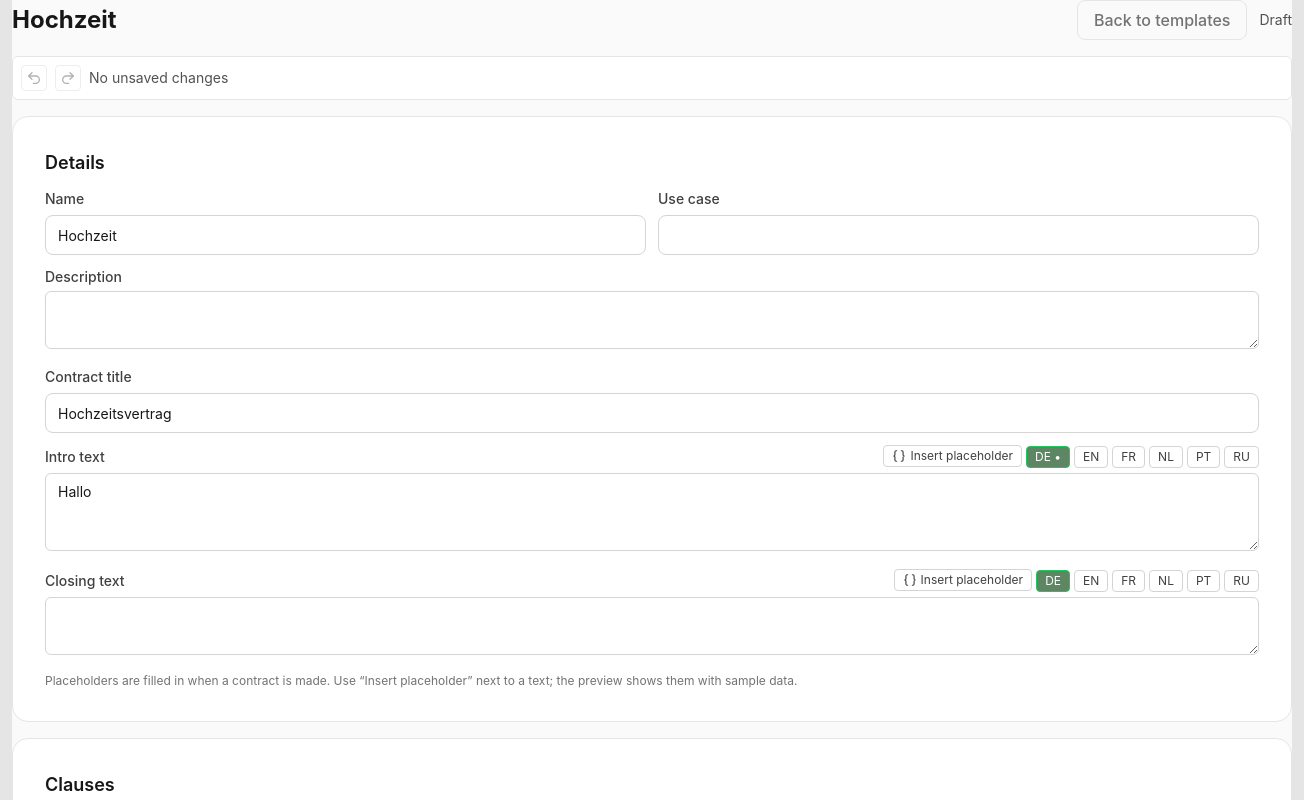
Test: a conflict keeps the local text, pauses autosave, and "Keep mine" saves it over the new version
Replace the text in the field labelled "Contract title" with "Mein Titel" at (652, 413), box [45,393,1259,433]
(page scrolled)
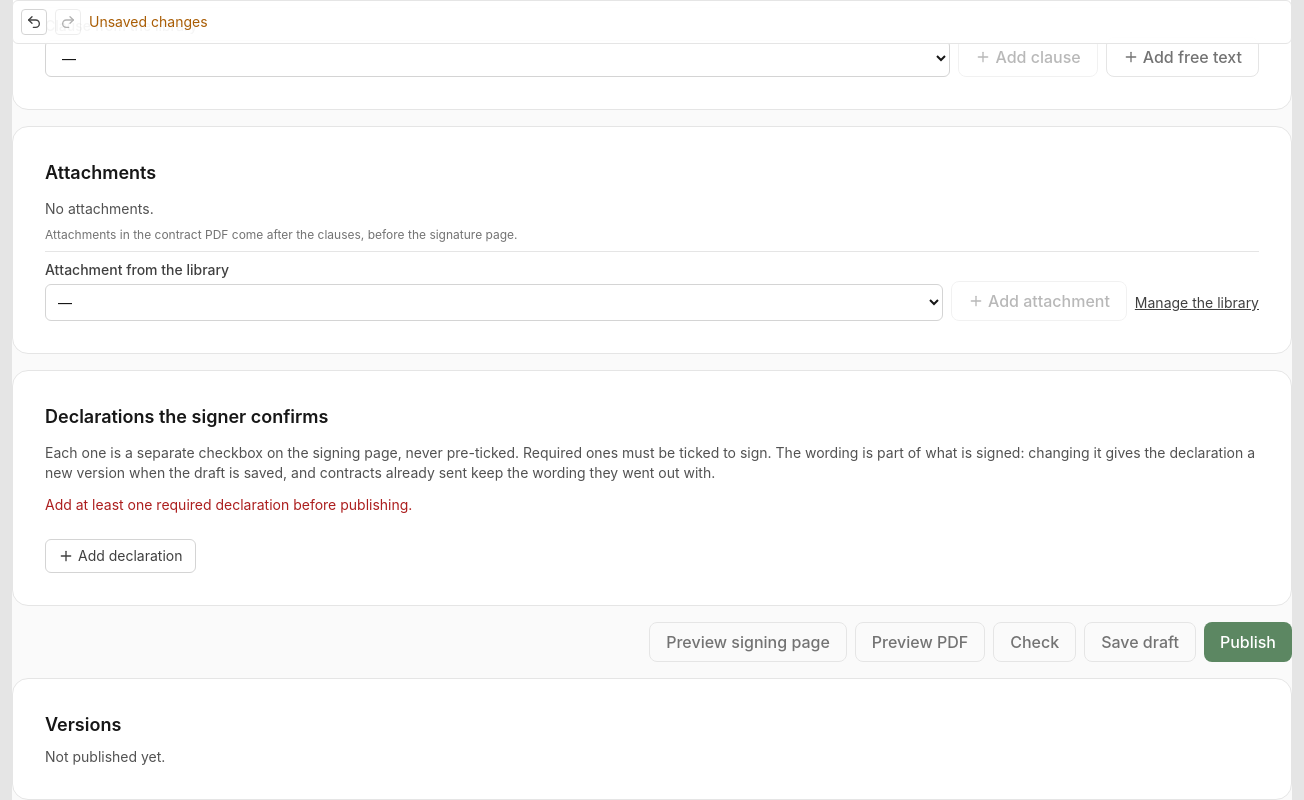
Click the button "Save draft".
click(1140, 642)  # box [1084,622,1196,662]
(page scrolled)
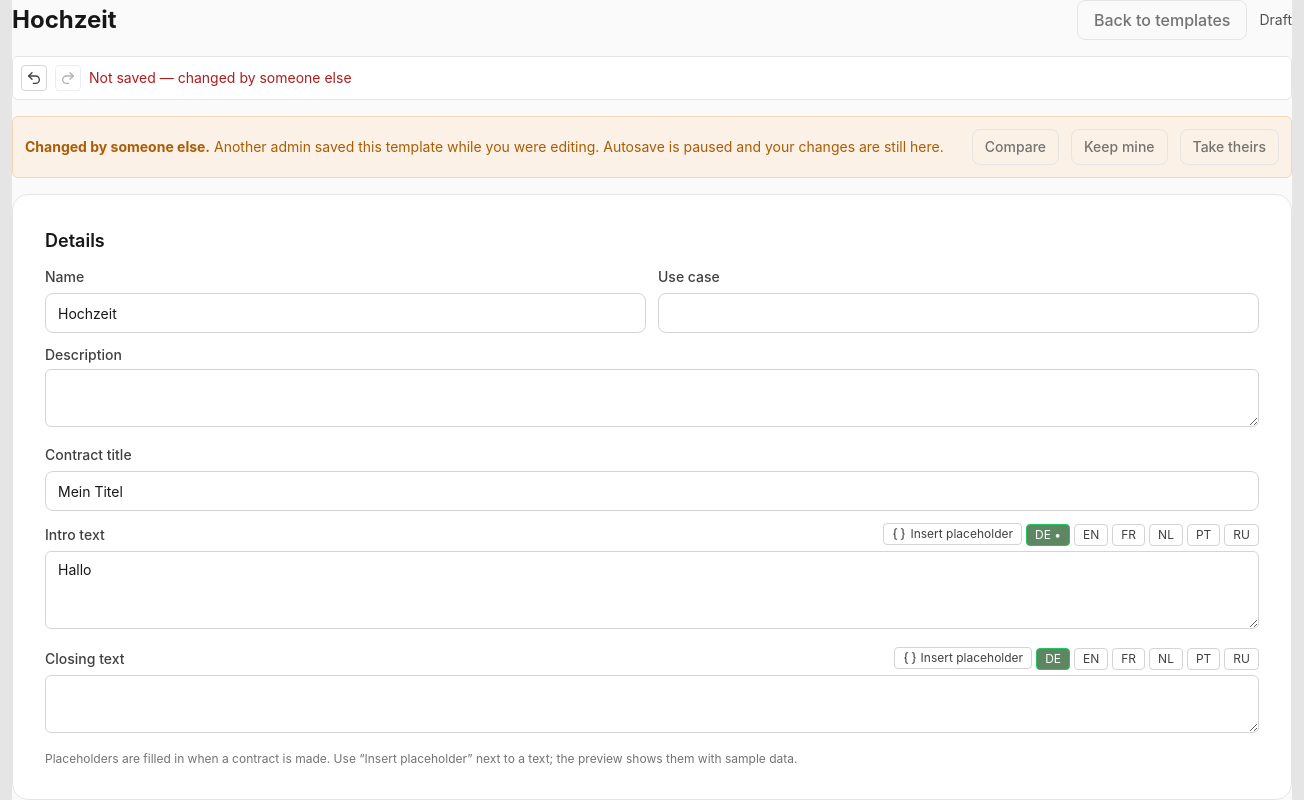
expect the text "Changed by someone else." is shown: met, box [25,138,210,155]
expect the message with test id "autosave-status" reads "Not saved — changed by someone else": met, box [89,69,352,86]
Click the button "Keep mine".
click(1119, 147)  # box [1071,129,1168,165]
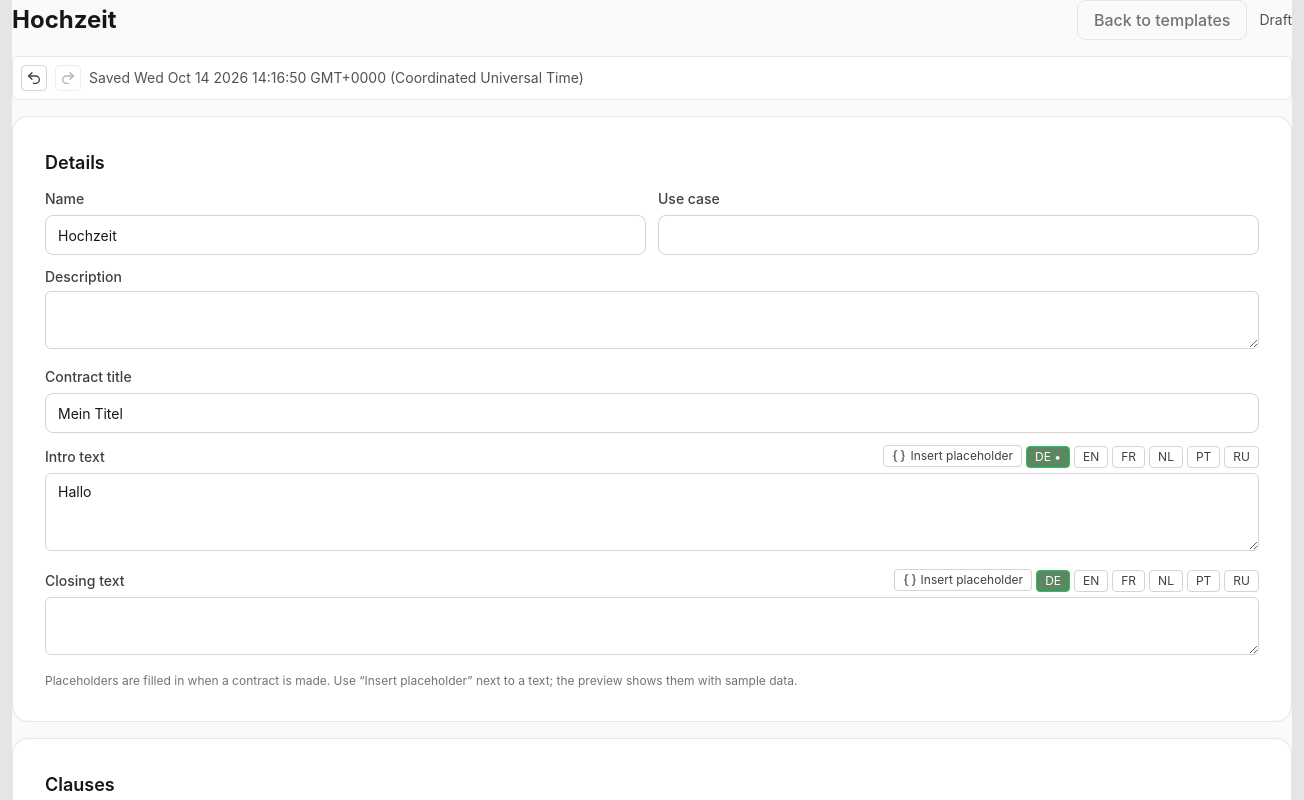
expect the text "Changed by someone else." is gone: met
